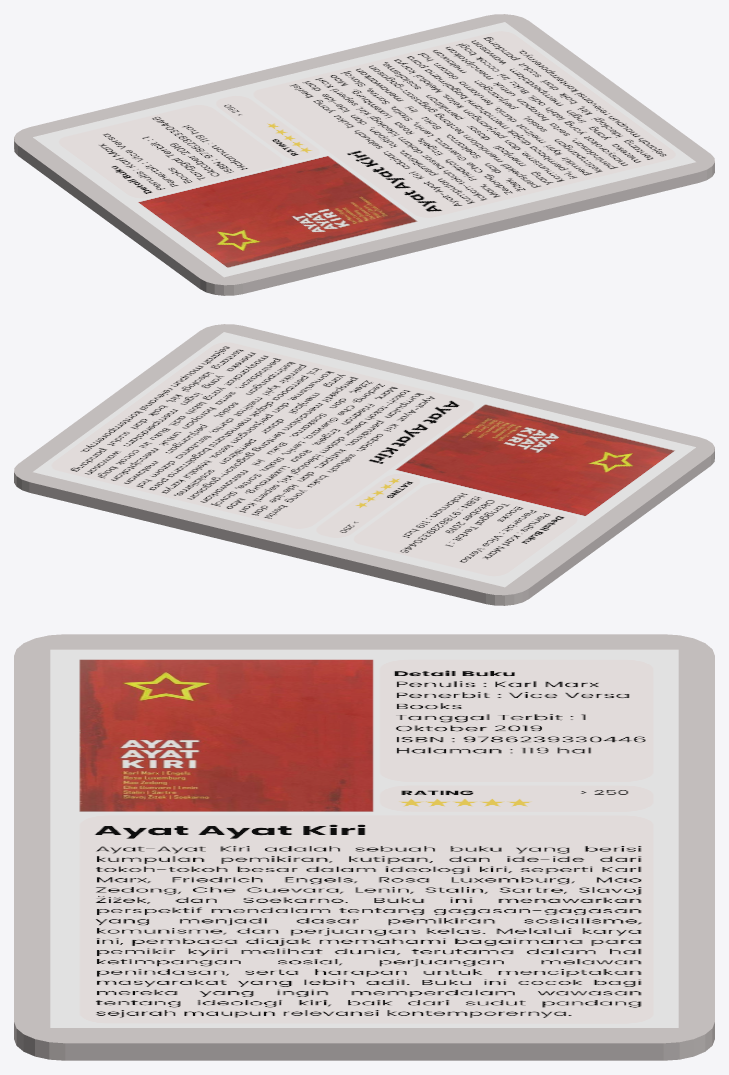
The model's file is 3daak.gltf.
The picture shows the model from 3 angles, top to bottom: view 1: azimuth 30°, elevation 25°; view 2: azimuth 150°, elevation 25°; view 3: azimuth 270°, elevation 25°; orthographic projection. The views are drawn at different scales.
Parts seen in each view (by area): view 1: Cube.003; view 2: Cube.003; view 3: Cube.003.
Part boxes in pixels (x1,y1,x2,y2): Cube.003: (14, 14, 714, 295); Cube.003: (14, 324, 714, 605); Cube.003: (14, 634, 714, 1060).
Size of the model in its own units: 2.02 by 0.0403 by 1.47.
Materials: 2 (1 with a texture image).
